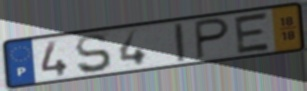4: (118, 27, 151, 68), (39, 39, 71, 79)
E: (232, 10, 273, 56)
I: (171, 21, 188, 64)
P: (193, 16, 232, 61)
S: (73, 32, 114, 75)
